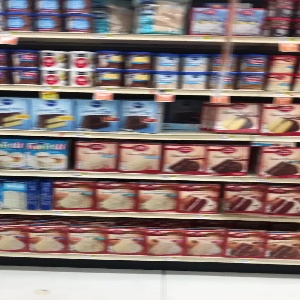void: (161, 94, 204, 135)
